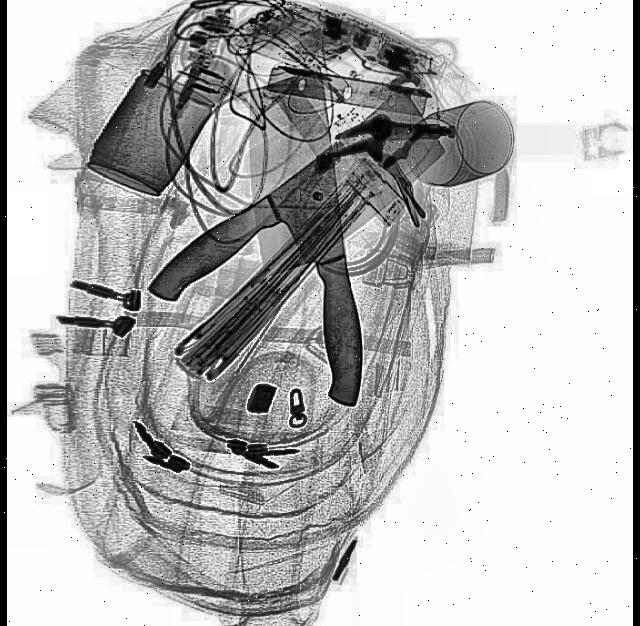Knife: (142, 76, 448, 358), (235, 70, 368, 414)
